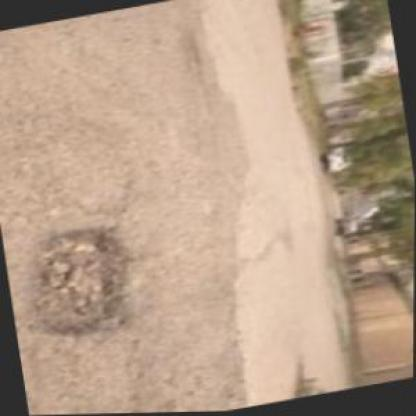pothole: (18, 219, 144, 347)
